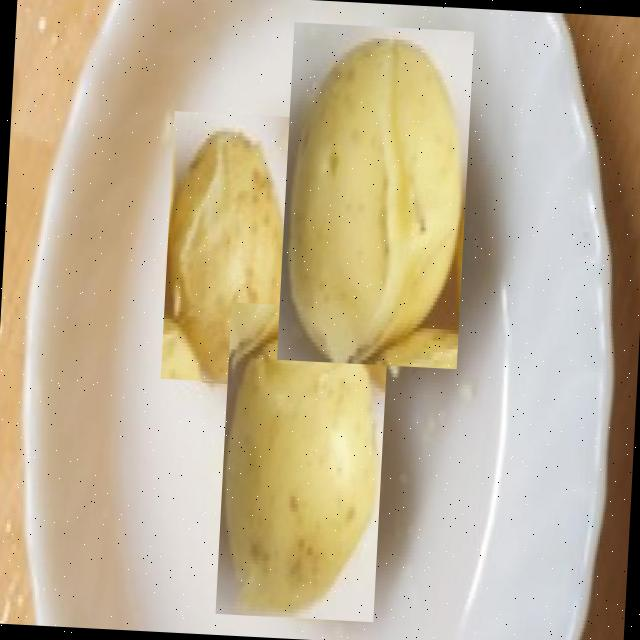Potato: (276, 21, 473, 368), (214, 301, 388, 621), (160, 110, 296, 384)
